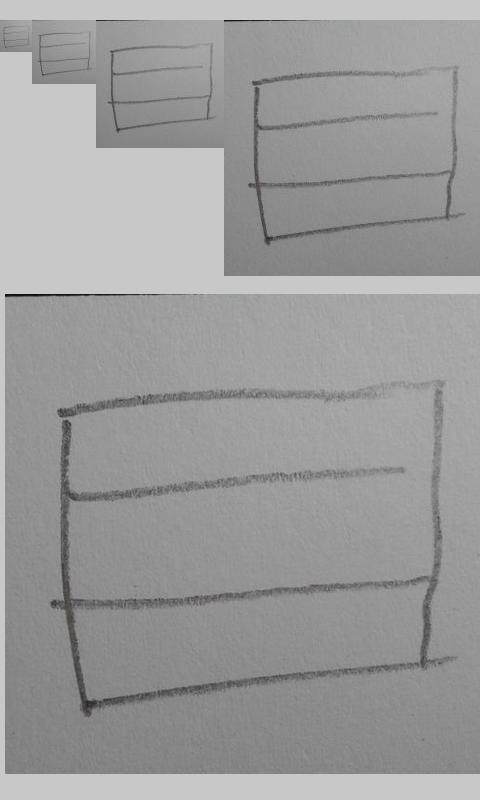list_view: (55, 380, 445, 713), (251, 66, 460, 245), (109, 42, 215, 132), (38, 31, 92, 76), (2, 24, 30, 49)
